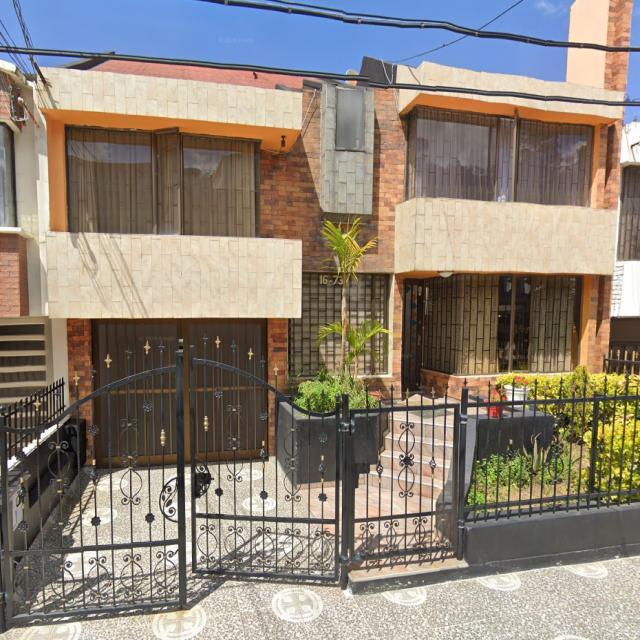Casa: (0, 51, 628, 401), (570, 0, 632, 45)
